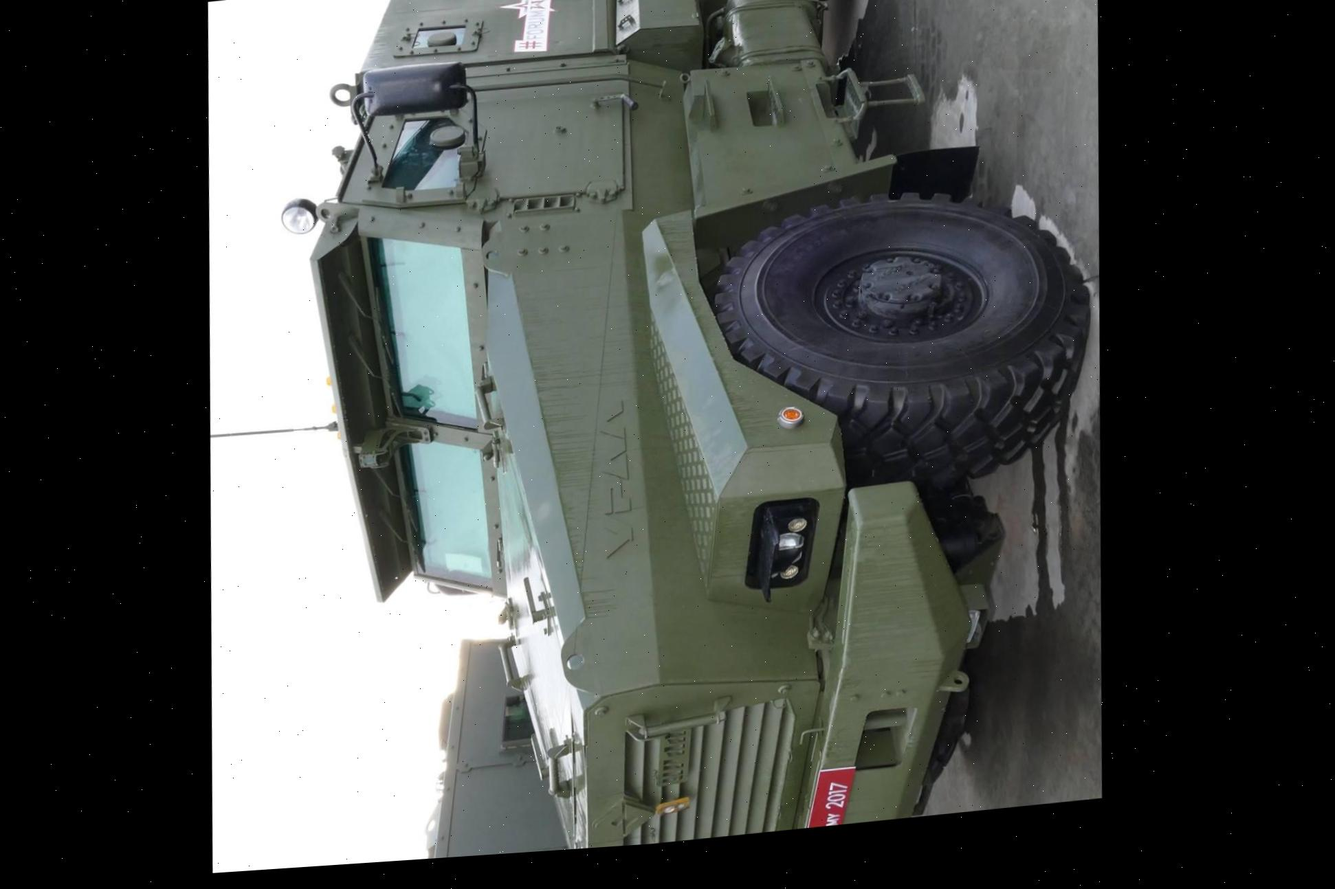truck: (271, 0, 1123, 869), (367, 590, 861, 863)
